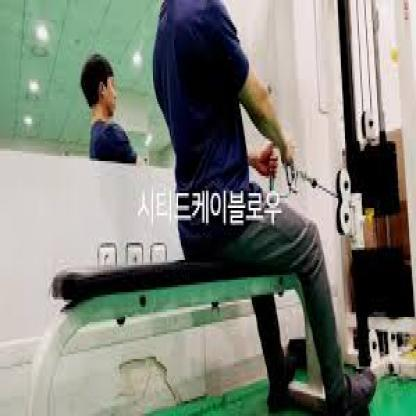Seated Cable Rows: (27, 5, 414, 416)
